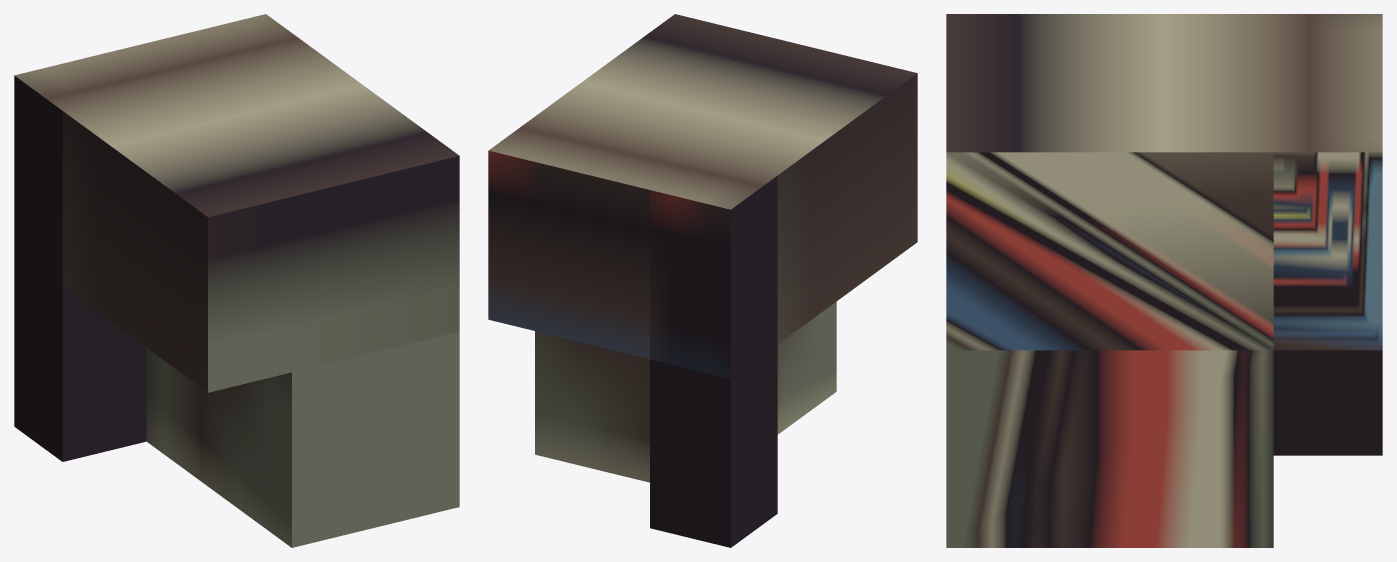
Rendered from casa3_cantonada_dalt.fbx.
3 views of the same model, side by side, from view 1: azimuth 30°, elevation 25°; view 2: azimuth 150°, elevation 25°; view 3: azimuth 270°, elevation 25° (orthographic). The views are drawn at different scales.
Visible parts, largest first — view 1: Wall1.038; view 2: Wall1.038; view 3: Wall1.038.
Boxes of the visible parts, x1,y1,x2,y2 form: Wall1.038: (14, 14, 459, 547); Wall1.038: (488, 14, 917, 547); Wall1.038: (946, 14, 1382, 547).
Size of the model in its own units: 75 by 100 by 100.
